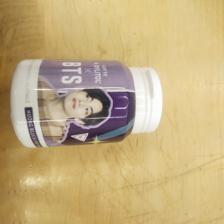Xylitol_BTS: (10, 55, 167, 150)
